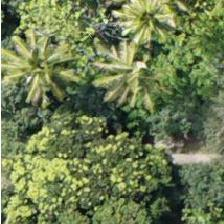coconut_tree: (82, 30, 172, 120), (0, 19, 85, 109)
